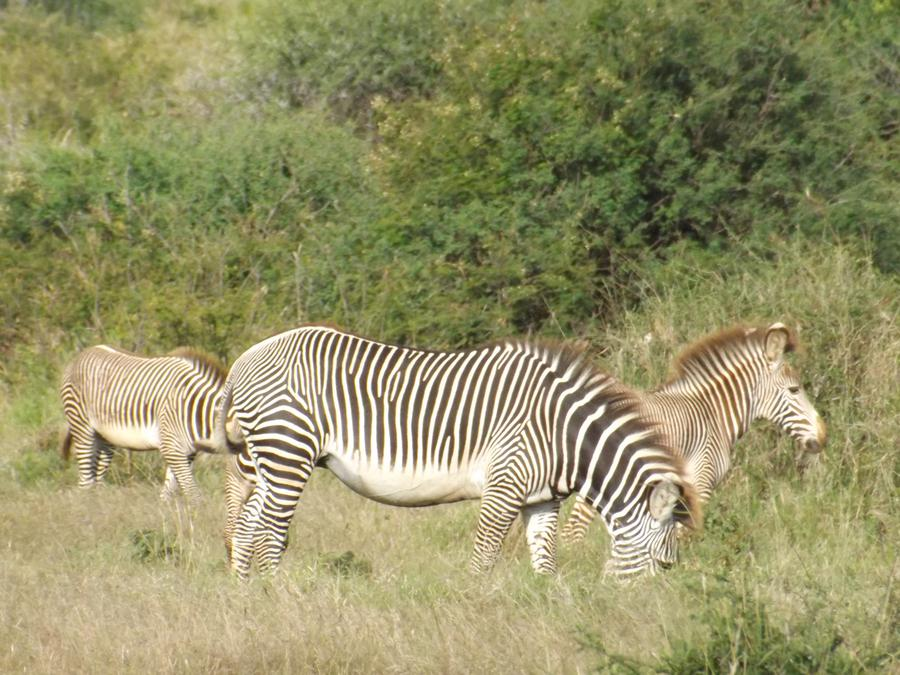zebra_grevys: (220, 308, 542, 498)
